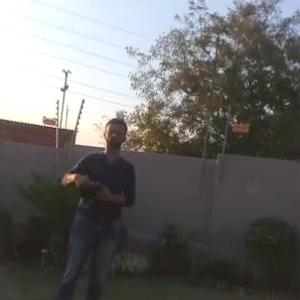follow: (55, 112, 146, 299)
